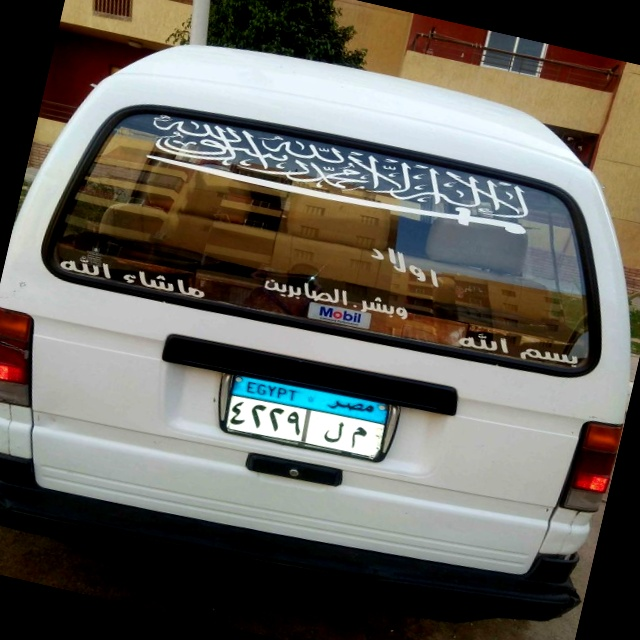License Plate: (219, 367, 396, 469)
